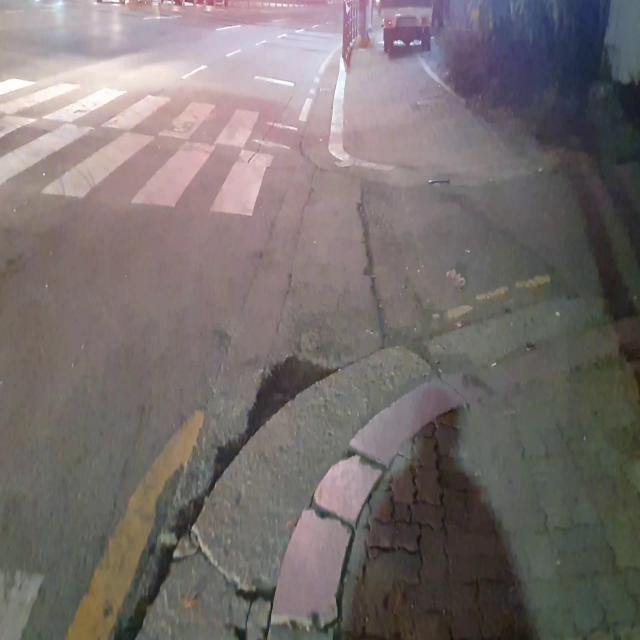crosswalk: (0, 73, 307, 225)
